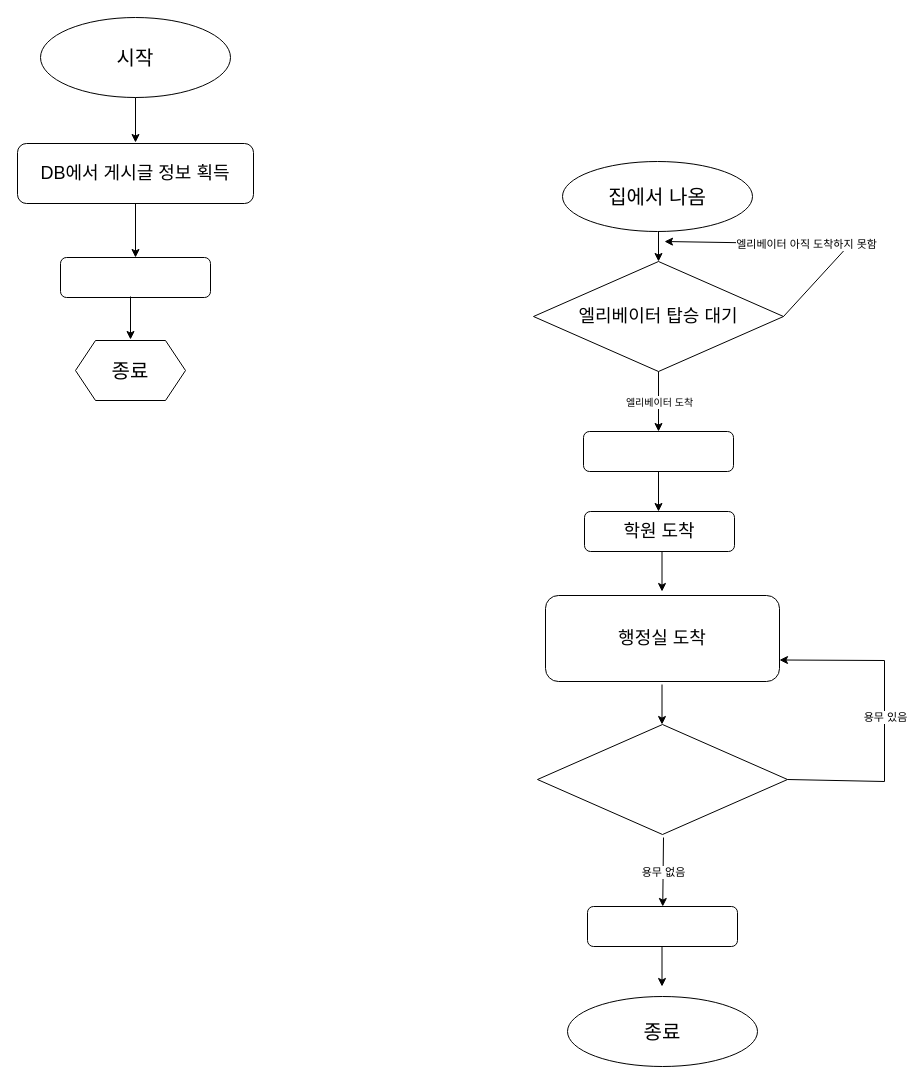
The diagram is 924 pixels wide and 1084 high, and some of its shapes have lost their labels. The centre of each missing label's shape, as x and y in pixels:
"1층 도착" goes at point 658,451.
"506호 도착" goes at point 662,926.
"용무 유무" goes at point 662,779.
"화면 출력" goes at point 135,277.
